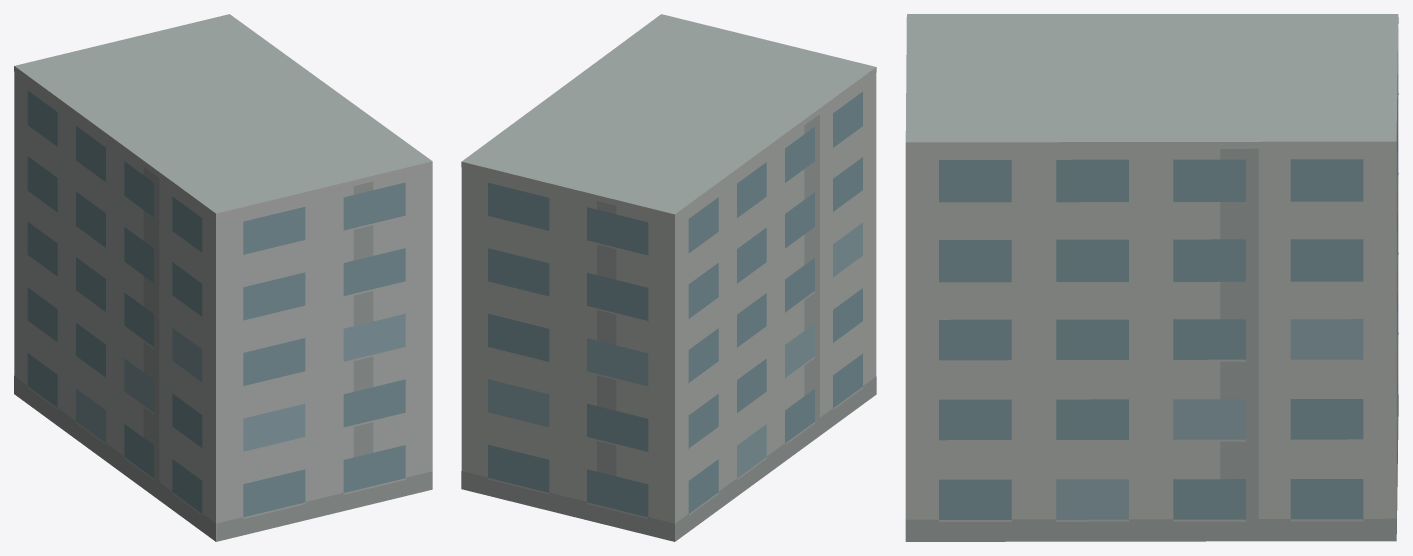
File: survey-upis-32637300.glb
The picture shows the model from 3 angles, left to right: view 1: azimuth 30°, elevation 25°; view 2: azimuth 150°, elevation 25°; view 3: azimuth 270°, elevation 25°; orthographic projection. The views are drawn at different scales.
Visible parts, largest first — view 1: survey-upis-32637300.tmp; view 2: survey-upis-32637300.tmp; view 3: survey-upis-32637300.tmp.
Part boxes in pixels (bbox=[...]): survey-upis-32637300.tmp: bbox=[14, 14, 432, 541]; survey-upis-32637300.tmp: bbox=[461, 14, 876, 541]; survey-upis-32637300.tmp: bbox=[905, 14, 1398, 541].
Size of the model in its own units: 9.6 by 13.9 by 15.55.
